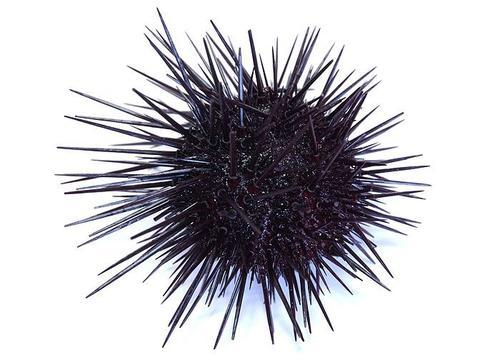urchin: (83, 26, 425, 340)
